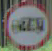Heavy Vehicles: (4, 2, 51, 49)
